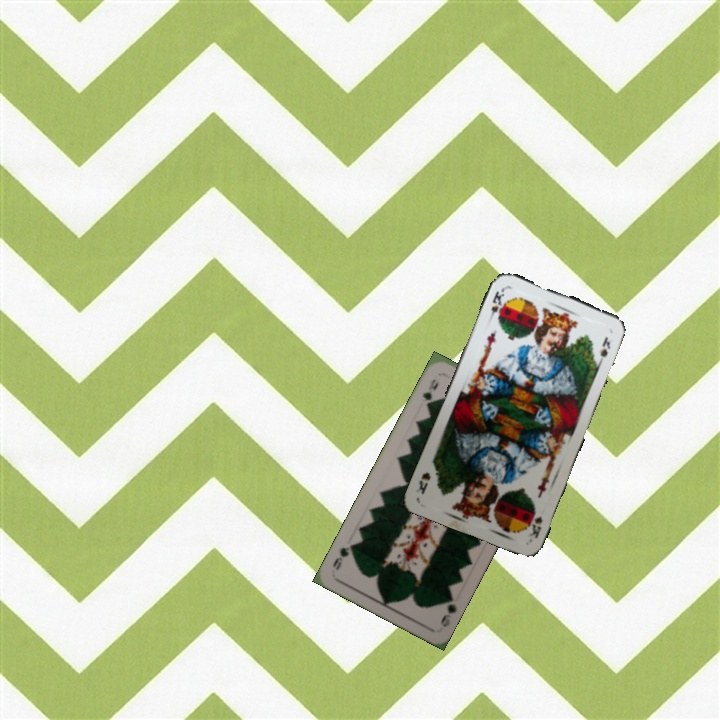G9: (436, 590, 460, 630), (418, 375, 442, 410)
SK: (484, 285, 507, 324), (525, 507, 545, 541)
